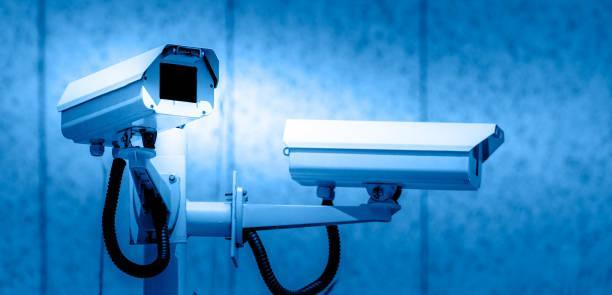camera: (271, 94, 511, 212), (47, 32, 232, 154)
